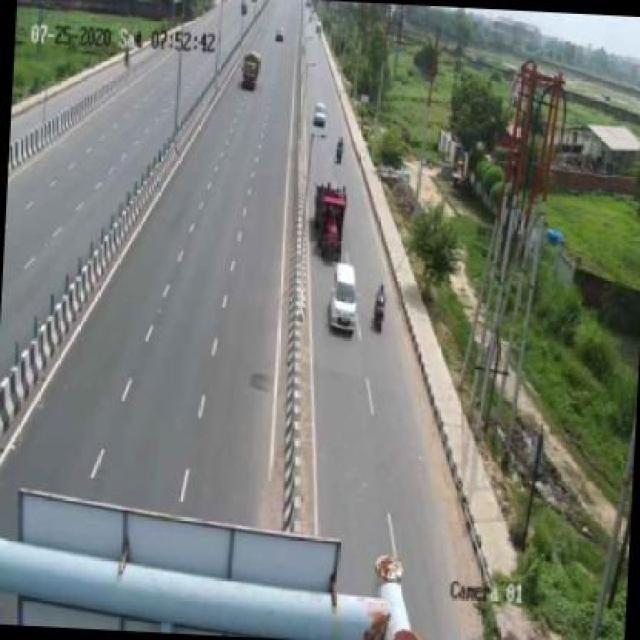car: (320, 257, 365, 338), (309, 97, 329, 131)
